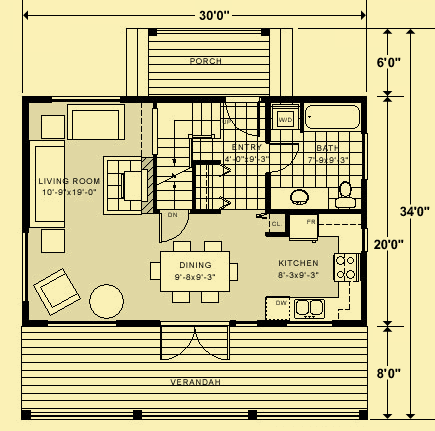dining_table: (150, 241, 239, 305)
door: (155, 213, 191, 244)
kitchen_bar: (100, 156, 150, 215)
large_sink: (329, 181, 359, 210)
large_sofa: (29, 138, 66, 229), (66, 103, 126, 142)
small_sink: (271, 188, 327, 210)
small_sofa: (32, 267, 82, 315)
tub: (304, 103, 364, 134)
twin_sink: (291, 297, 328, 323)
